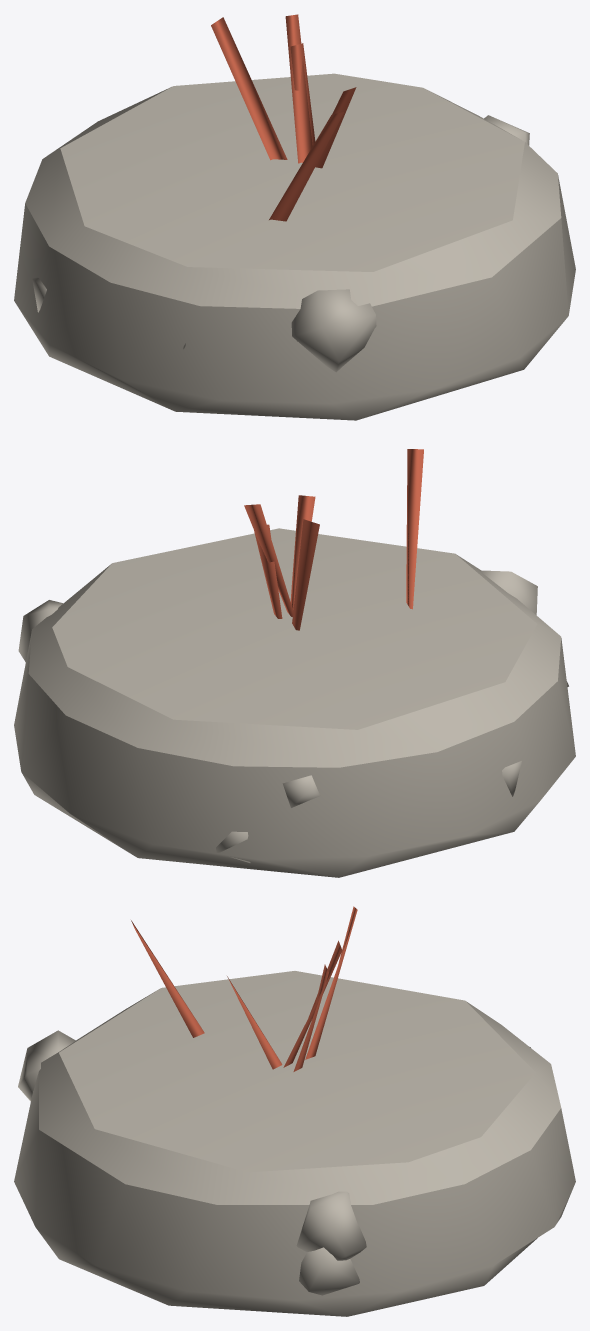
The model's file is concrete_plug.glb.
3 views of the same model, one above another, from view 1: azimuth 30°, elevation 25°; view 2: azimuth 150°, elevation 25°; view 3: azimuth 270°, elevation 25° (orthographic).
Parts seen in each view (by area): view 1: concrete_plug; view 2: concrete_plug; view 3: concrete_plug.
Part boxes in pixels (<box>): concrete_plug: <box>14,14,575,420</box>; concrete_plug: <box>14,449,575,877</box>; concrete_plug: <box>14,906,575,1316</box>.
Size of the model in its own units: 2.14 by 1.14 by 2.1.
1 material, 1 textured.
